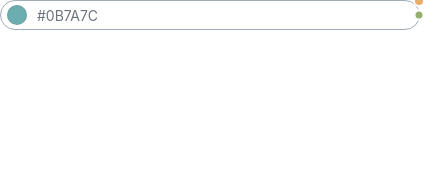
Color Swatch › shows a swatch; double-click opens the picker and OK sends the hex
Later steps or results of the test are not shown.
Double-click the element with test id "node-n1" at (210, 15), box [0,0,420,30]
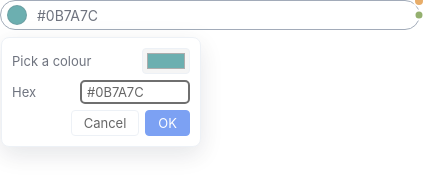
Expected: the colour field with test id "color-picker" holds "#0b7a7c"
Type "#ff0000" into the colour field with test id "color-picker" at (166, 61), box [142,48,190,74]
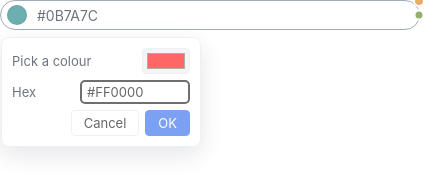
Expected: the field with test id "color-hex" holds "#FF0000", [80,80,190,104]
